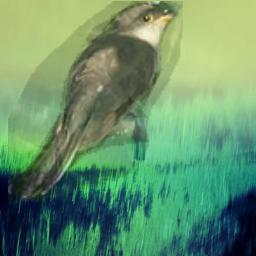Cuckoo: (8, 1, 183, 206)
